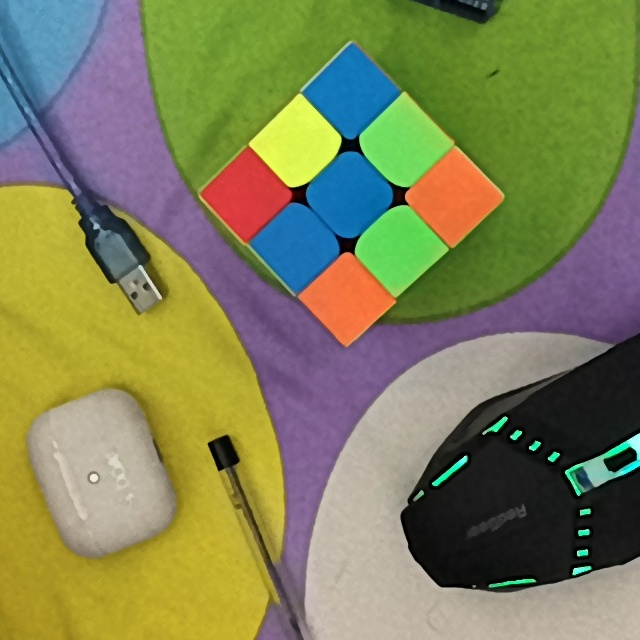tile: (323, 171, 375, 220), (321, 71, 377, 114), (273, 220, 320, 271), (429, 172, 477, 221), (377, 124, 428, 169), (227, 166, 270, 217), (329, 276, 368, 325), (276, 123, 320, 166), (377, 230, 421, 271)
